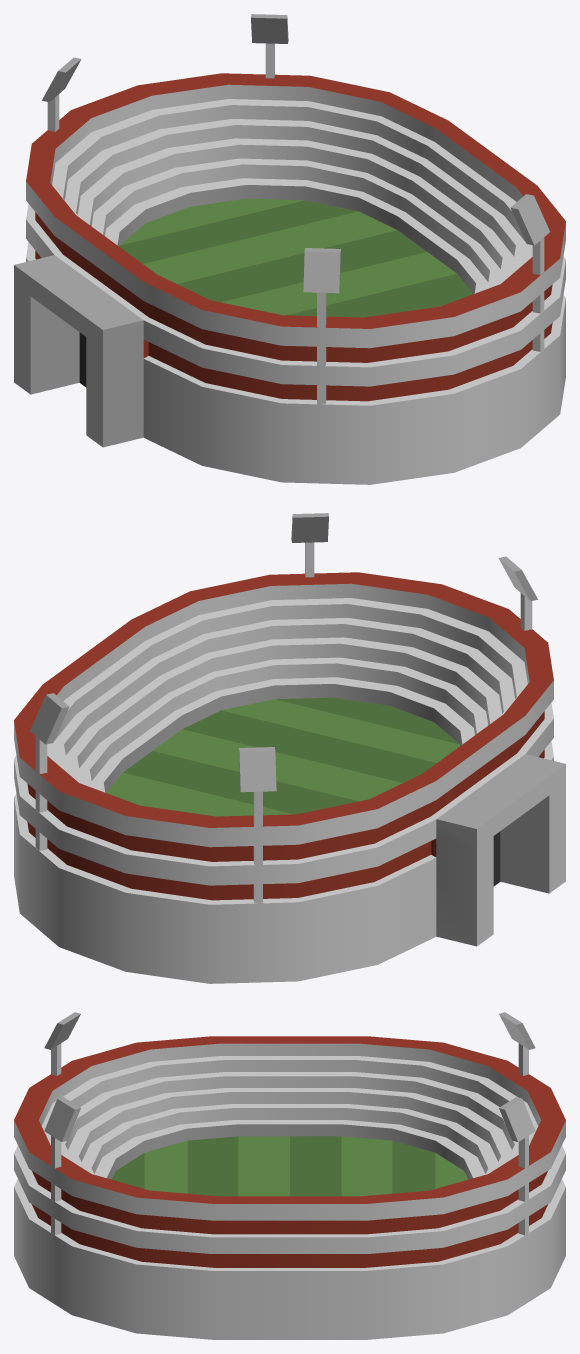
Rendered from stadium.glb.
3 renders of one model, top to bottom at view 1: azimuth 30°, elevation 25°; view 2: azimuth 150°, elevation 25°; view 3: azimuth 270°, elevation 25°, orthographic. The views are drawn at different scales.
Visible parts, largest first — view 1: stadium; view 2: stadium; view 3: stadium.
Part boxes in pixels (x1,y1,x2,y2): stadium: (14, 14, 565, 484); stadium: (14, 513, 565, 983); stadium: (14, 1012, 565, 1339).
Size of the model in its own units: 3.3 by 1.63 by 4.17.
